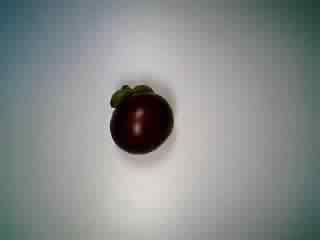mangosteen: (103, 75, 182, 164)
